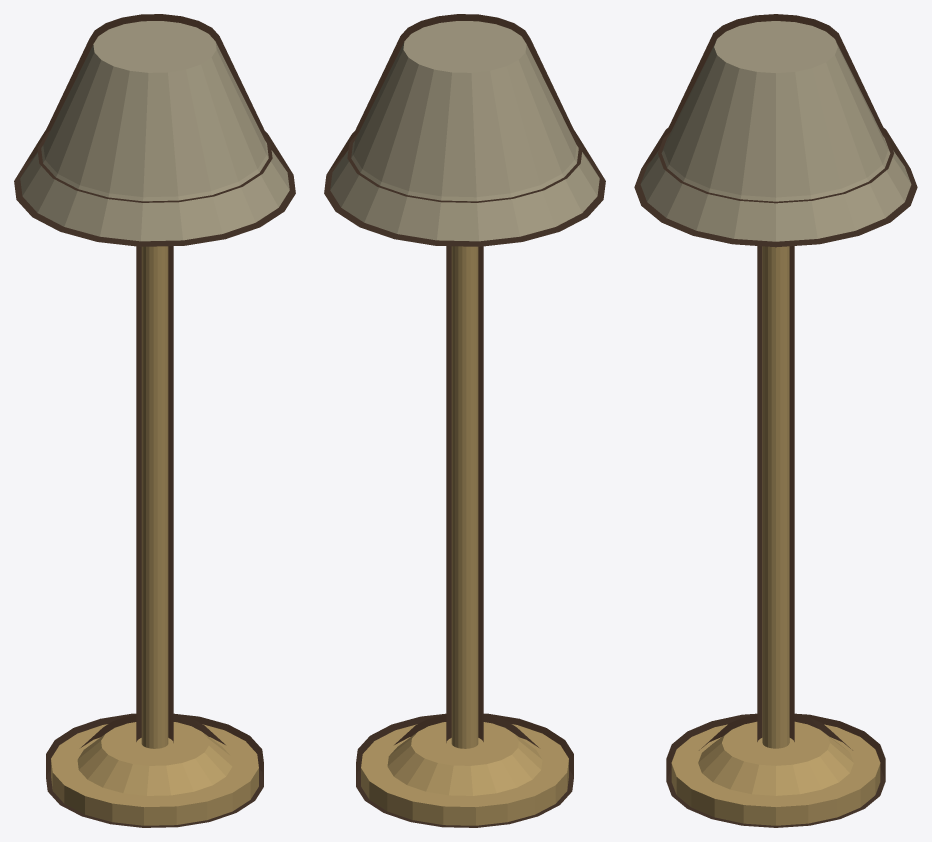
The model's file is library-lamp.glb.
The picture shows the model from 3 angles, left to right: view 1: azimuth 30°, elevation 25°; view 2: azimuth 150°, elevation 25°; view 3: azimuth 270°, elevation 25°; orthographic projection.
Parts seen in each view (by area): view 1: library-lamp, library-lamp-outline; view 2: library-lamp, library-lamp-outline; view 3: library-lamp, library-lamp-outline.
Boxes of the visible parts, x1=… form: library-lamp: x1=20, y1=21, x2=289, y2=825; library-lamp-outline: x1=14, y1=14, x2=295, y2=827; library-lamp: x1=330, y1=21, x2=599, y2=825; library-lamp-outline: x1=324, y1=14, x2=605, y2=827; library-lamp: x1=640, y1=21, x2=911, y2=825; library-lamp-outline: x1=634, y1=14, x2=917, y2=827.
Bounding box in the file's own units: 0.7321 × 2.11 × 0.7321.
